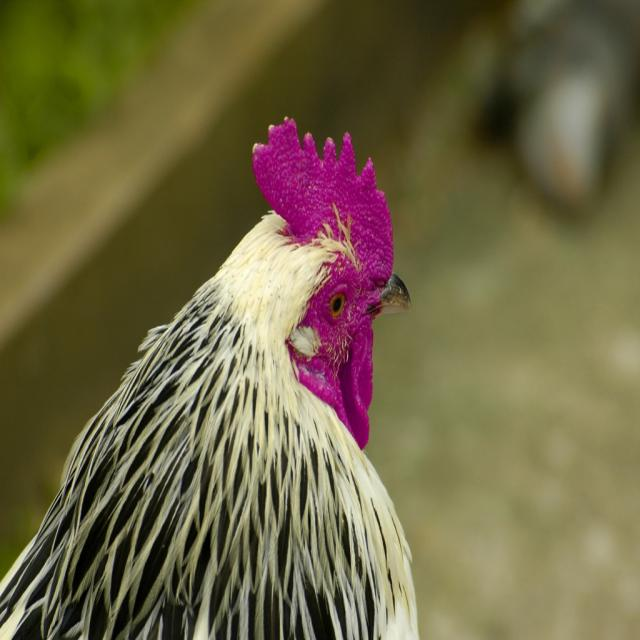Chicken: (0, 116, 419, 640)
